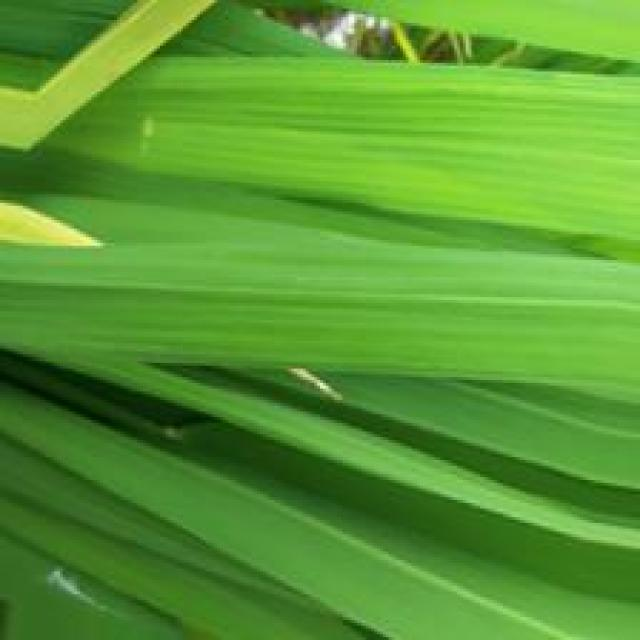HealthyLeaf: (0, 371, 640, 640), (34, 58, 640, 256), (0, 246, 640, 396)
